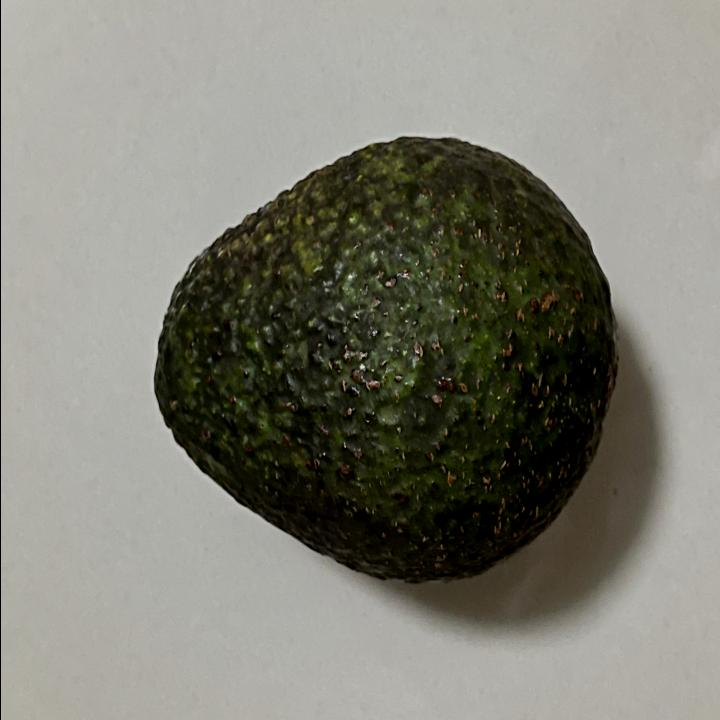Level1: (134, 118, 632, 612)
